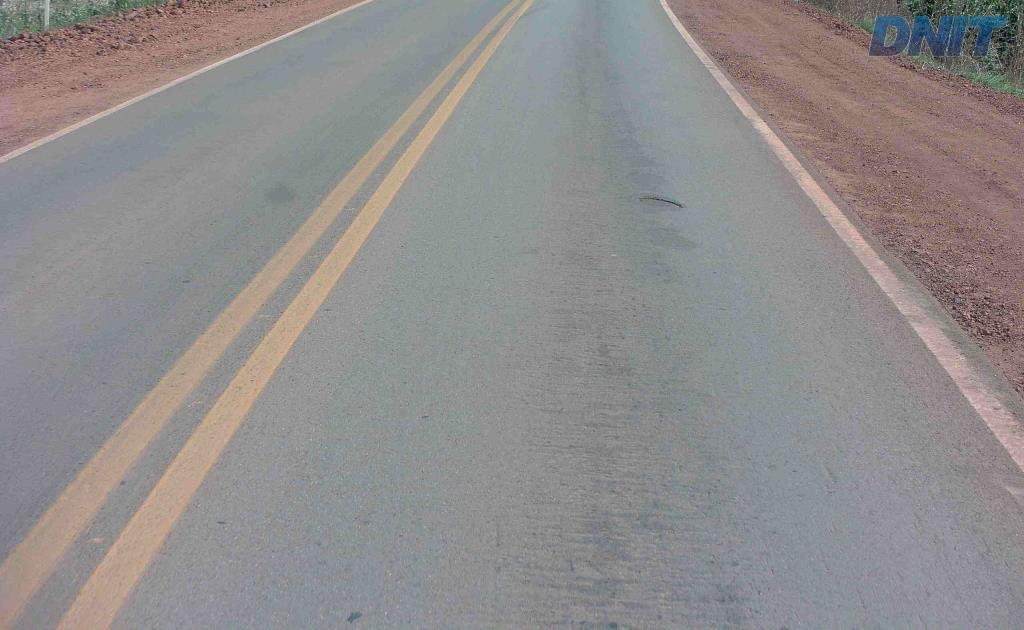pothole: (634, 192, 686, 211)
